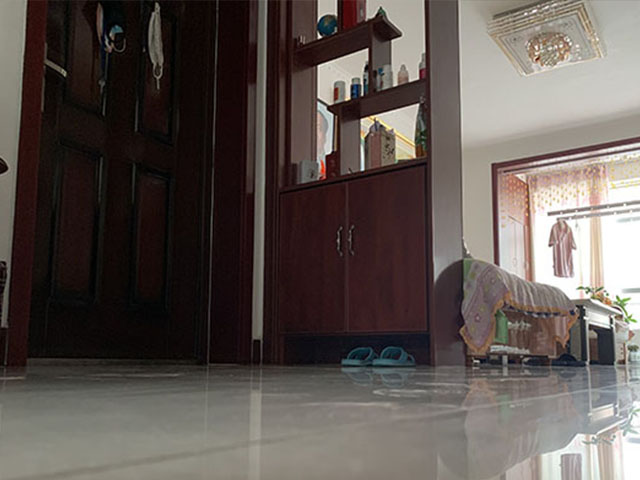cabinet: (262, 162, 464, 366)
slippers: (338, 344, 415, 369)
sofa: (465, 253, 580, 374)
table: (575, 296, 622, 366)
